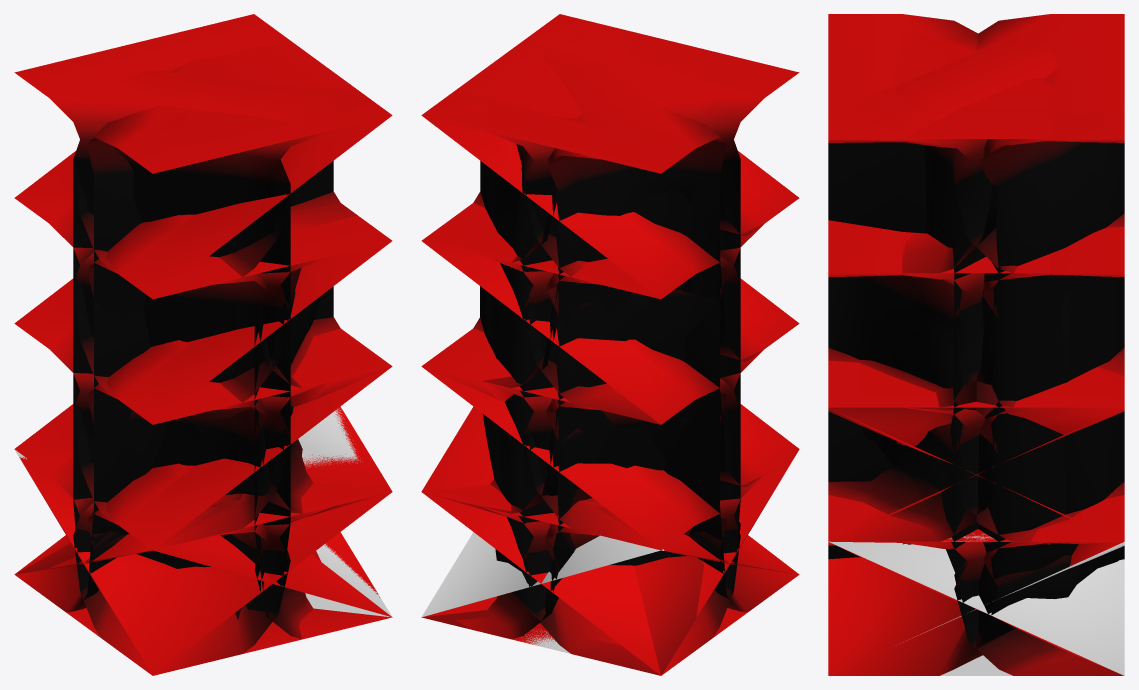
File: max_1.FBX
3 views of the same model, side by side, from view 1: azimuth 30°, elevation 25°; view 2: azimuth 150°, elevation 25°; view 3: azimuth 270°, elevation 25° (orthographic). The views are drawn at different scales.
Visible parts, largest first — view 1: ramp45_lvl2_03_rampSW, ramp90_lvl4_01_M_rampS, ramp90_lvl4_02_M_rampN, cliff_lvl4_09, ramp90_lvl3_01_M_rampS, cliff_lvl4_07, ramp90_lvl2_01_M_rampS, ramp90_lvl4_02_rampS, cliff_lvl4_08, cliff_lvl3_09, ramp90_lvl4_03_M_rampS, ramp45_lvl1_03_rampWS (+44 smaller); view 2: cliff_lvl4_035, cliff_lvl3_026, ramp90_lvl4_01_rampN, ramp45_lvl2_06_M_rampNE, cliff_lvl4_09, cliff_lvl4_043, cliff_lvl4_06, ramp90_lvl4_02_rampS, cliff_lvl2_020, ramp90_lvl3_01_rampN, ramp90_lvl4_02_M_rampN, ramp90_lvl2_01_rampN (+39 smaller); view 3: cliff_lvl4_06, ramp45_lvl3_01_rampNW, ramp45_lvl1_03_rampWS, cliff_lvl4_09, ramp45_lvl1_05_rampNESW, ramp90_lvl4_02_rampS, ramp90_lvl4_02_M_rampN, cliff_lvl4_03, cliff_lvl2_020, cliff_lvl4_20, cliff_lvl4_04, cliff_lvl3_06 (+36 smaller).
Part boxes in pixels (x1,y1,x2,y2): ramp45_lvl2_03_rampSW: (19,457,391,675); ramp90_lvl4_01_M_rampS: (73,115,391,611); ramp90_lvl4_02_M_rampN: (87,95,392,586); cliff_lvl4_09: (49,70,391,613); ramp90_lvl3_01_M_rampS: (118,241,391,424); cliff_lvl4_07: (119,150,290,612); ramp90_lvl2_01_M_rampS: (78,367,391,610); ramp90_lvl4_02_rampS: (14,14,287,97); cliff_lvl4_08: (50,98,239,590); cliff_lvl3_09: (73,247,326,544); ramp90_lvl4_03_M_rampS: (87,39,357,384); ramp45_lvl1_03_rampWS: (49,533,391,616); cliff_lvl4_035: (483,63,764,613); cliff_lvl3_026: (548,263,745,531); ramp90_lvl4_01_rampN: (422,115,740,611); ramp45_lvl2_06_M_rampNE: (421,445,733,675); cliff_lvl4_09: (482,14,695,388); cliff_lvl4_043: (549,160,763,602); cliff_lvl4_06: (480,144,534,522); ramp90_lvl4_02_rampS: (422,90,726,586); cliff_lvl2_020: (421,328,740,612); ramp90_lvl3_01_rampN: (422,241,695,424); ramp90_lvl4_02_M_rampN: (541,15,799,121); ramp90_lvl2_01_rampN: (422,367,735,610); cliff_lvl4_06: (984,141,1124,629); ramp45_lvl3_01_rampNW: (828,275,1124,434); ramp45_lvl1_03_rampWS: (828,541,1048,675); cliff_lvl4_09: (828,14,1124,375); ramp45_lvl1_05_rampNESW: (829,541,1124,675); ramp90_lvl4_02_rampS: (942,14,1124,540); ramp90_lvl4_02_M_rampN: (828,14,1010,540); cliff_lvl4_03: (828,118,1050,233); cliff_lvl2_020: (828,360,1124,407); cliff_lvl4_20: (828,109,1124,541); cliff_lvl4_04: (892,14,1052,138); cliff_lvl3_06: (984,294,1119,641).
Bounding box in the file's own units: 39.37 × 78.74 × 39.37.
